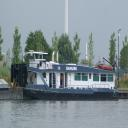tugboat: (10, 49, 121, 106)
